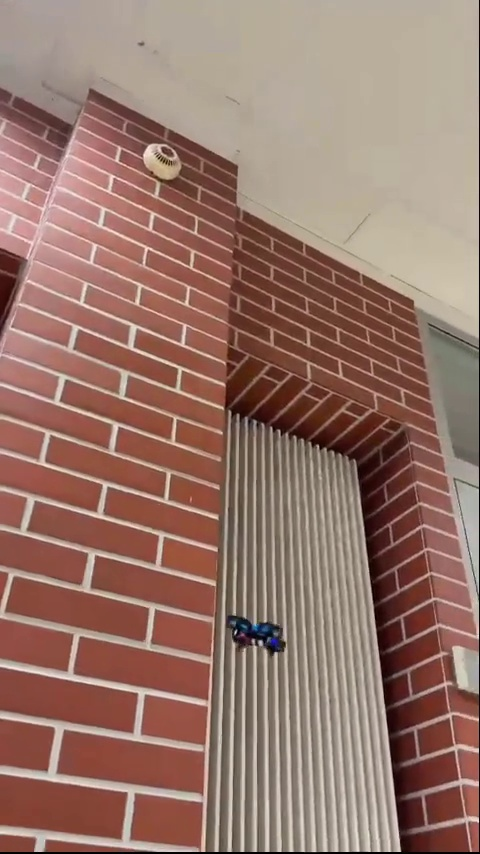drone: (225, 616, 287, 651)
